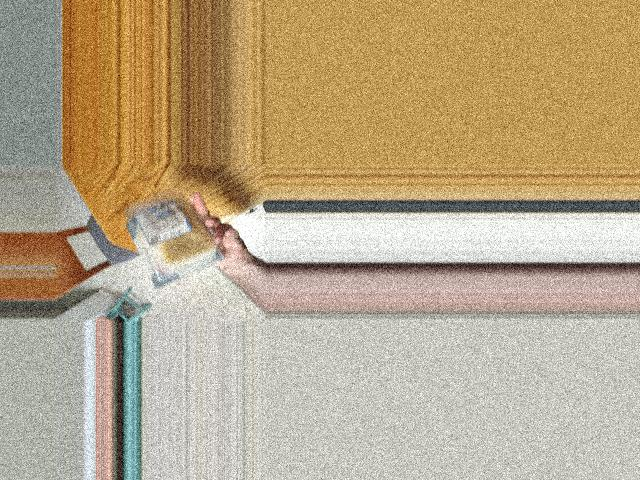cheese: (126, 196, 199, 287)
